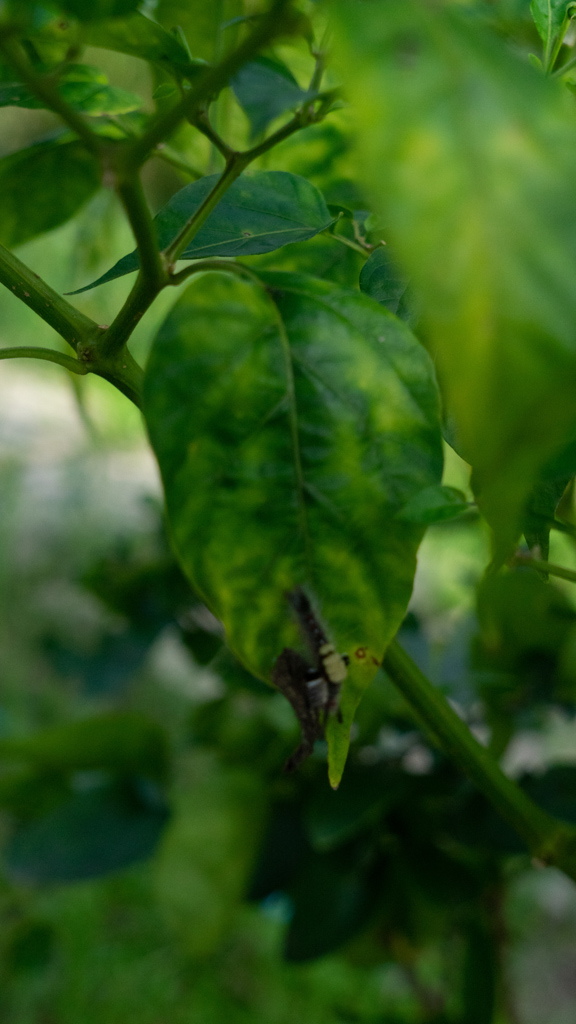frog-eye leafspot: (350, 643, 370, 662)
